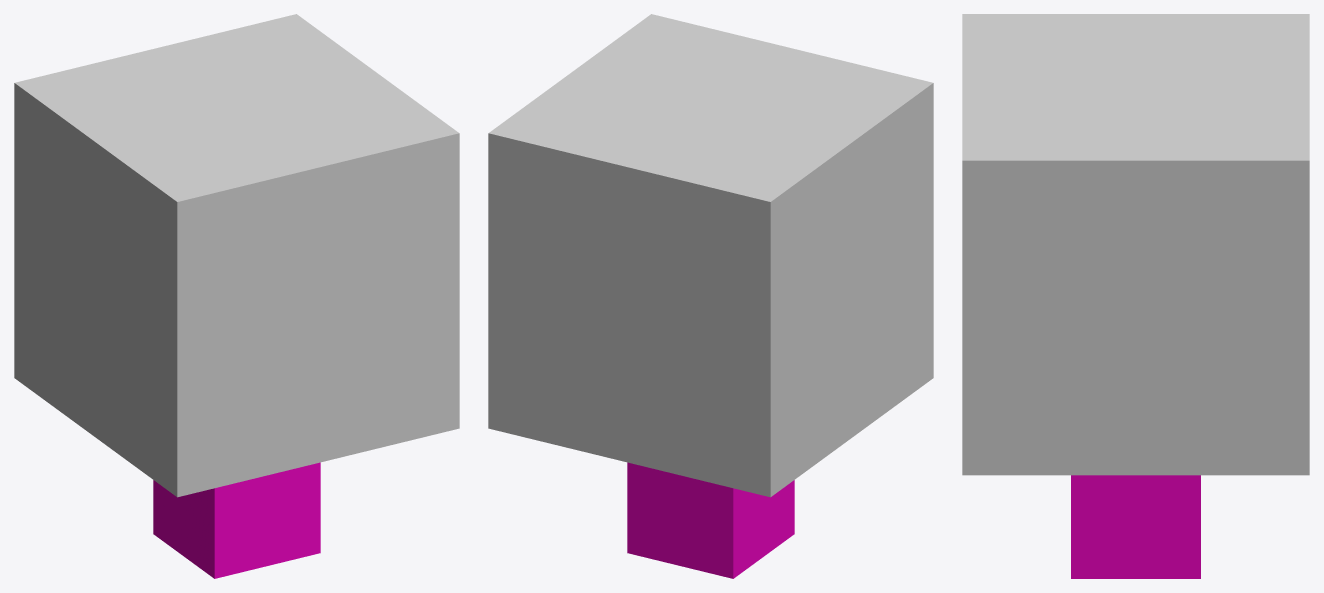
File: fabric_test_V02.fbx
3 views of the same model, side by side, from view 1: azimuth 30°, elevation 25°; view 2: azimuth 150°, elevation 25°; view 3: azimuth 270°, elevation 25° (orthographic). The views are drawn at different scales.
Parts seen in each view (by area): view 1: Cube.001; view 2: Cube.001; view 3: Cube.001.
Part boxes in pixels (bbox=[...]): Cube.001: bbox=[14, 14, 459, 578]; Cube.001: bbox=[488, 14, 933, 578]; Cube.001: bbox=[962, 14, 1309, 578].
Size of the model in its own units: 200 by 295 by 200.
